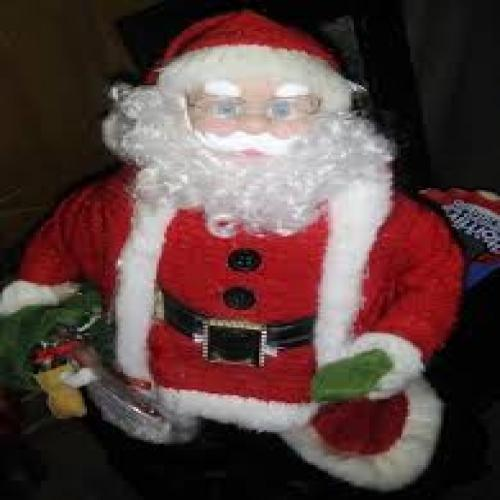Santa: (0, 8, 460, 489)
